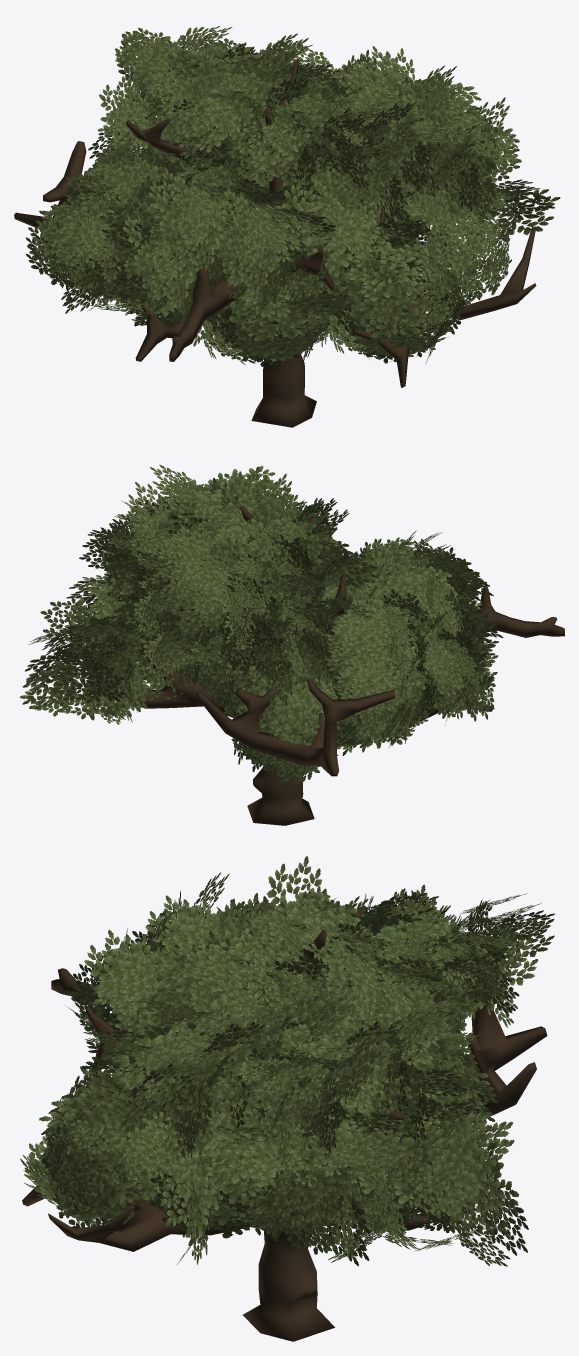
The picture shows the model from 3 angles, top to bottom: view 1: azimuth 30°, elevation 25°; view 2: azimuth 150°, elevation 25°; view 3: azimuth 270°, elevation 25°; orthographic projection. The views are drawn at different scales.
Visible parts, largest first — view 1: Cube.003; view 2: Cube.003; view 3: Cube.003.
Boxes of the visible parts, x1=… form: Cube.003: x1=14, y1=26, x2=560, y2=427; Cube.003: x1=20, y1=465, x2=564, y2=825; Cube.003: x1=20, y1=856, x2=554, y2=1341.
Bounding box in the file's own units: 15.87 × 11.28 × 13.09.
Materials: 2 (1 with a texture image).
